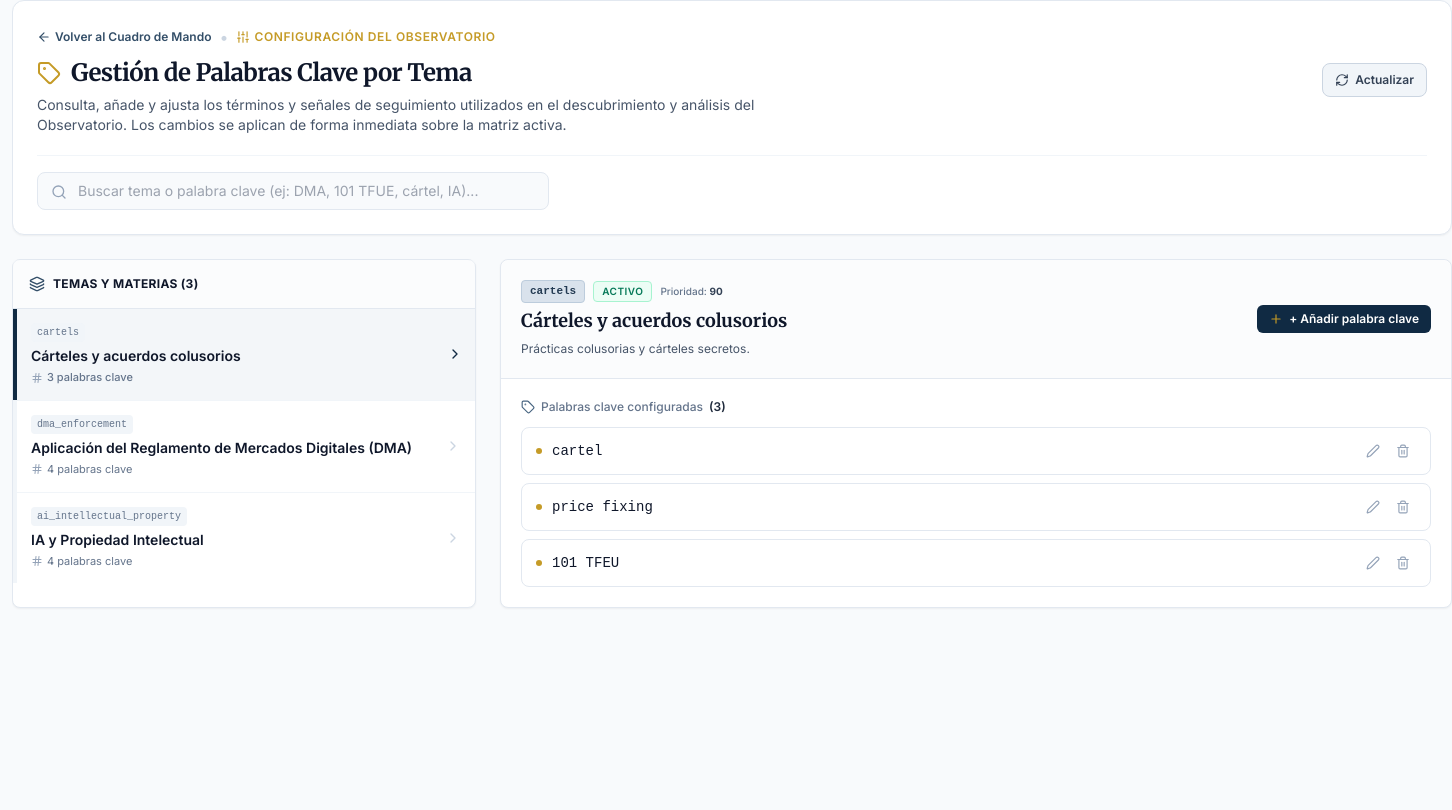
it: Keyword Settings Management Interface › 15. Si el PATCH falla, la keyword permanece y aparece el mensaje de error
expect the text "cartel" is shown: met, box [552,441,602,461]
Click the button named "Eliminar cartel" at (1403, 451), box [1390,438,1416,464]
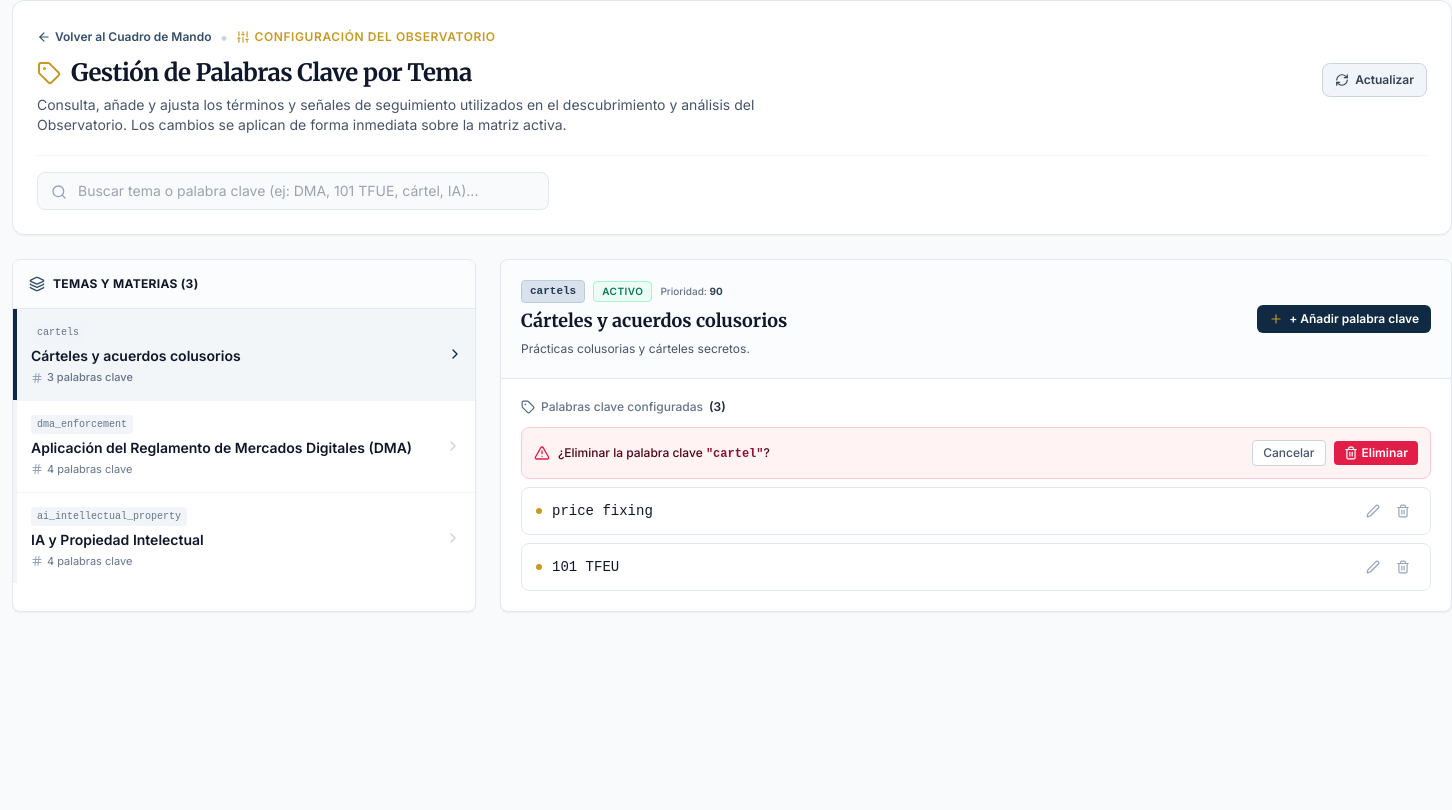
Click the button "Eliminar" at (1376, 453), box [1334,441,1418,465]
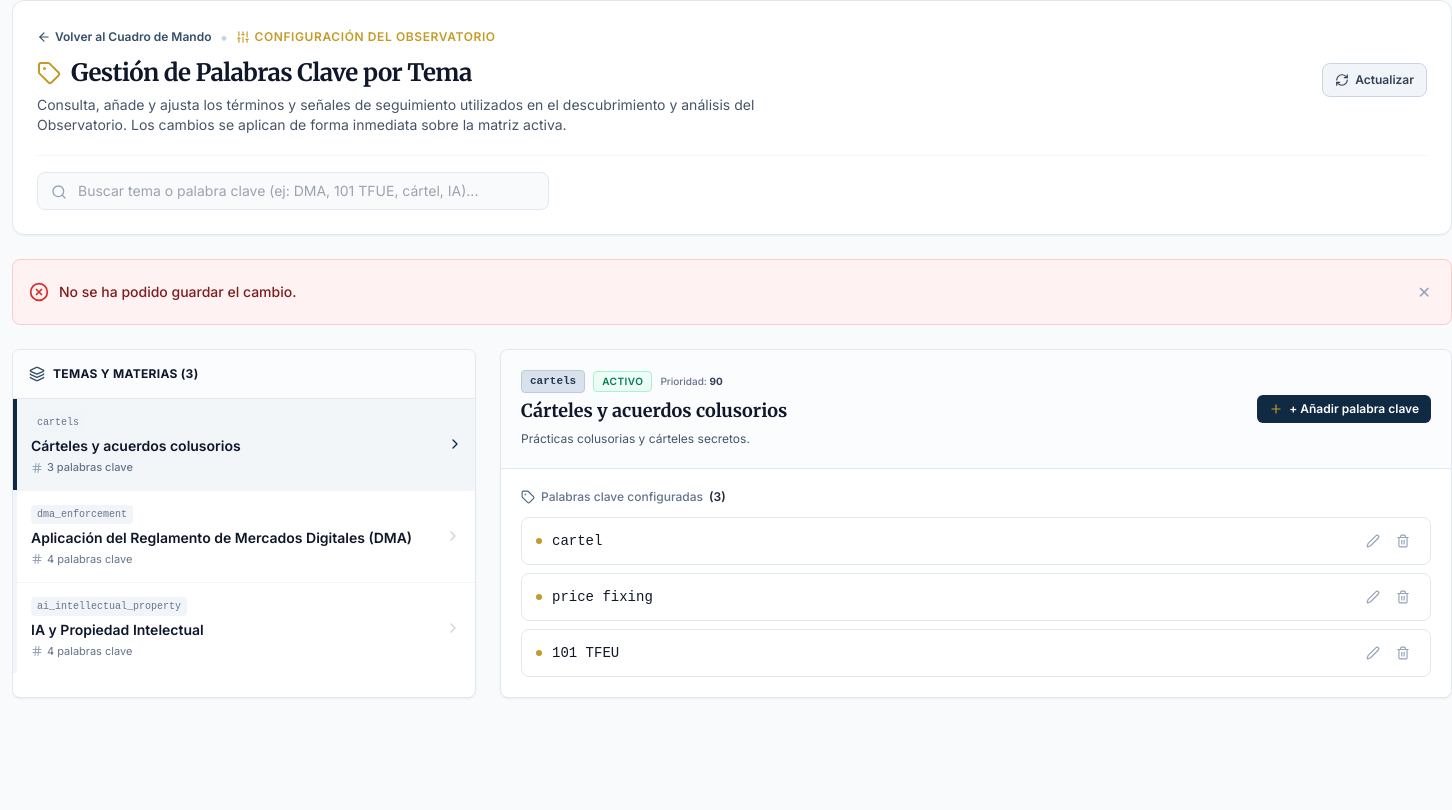
expect the text "cartel" is shown: met, box [552,531,602,551]
expect the text "No se ha podido guardar el cambio." is shown: met, box [59,282,296,302]
